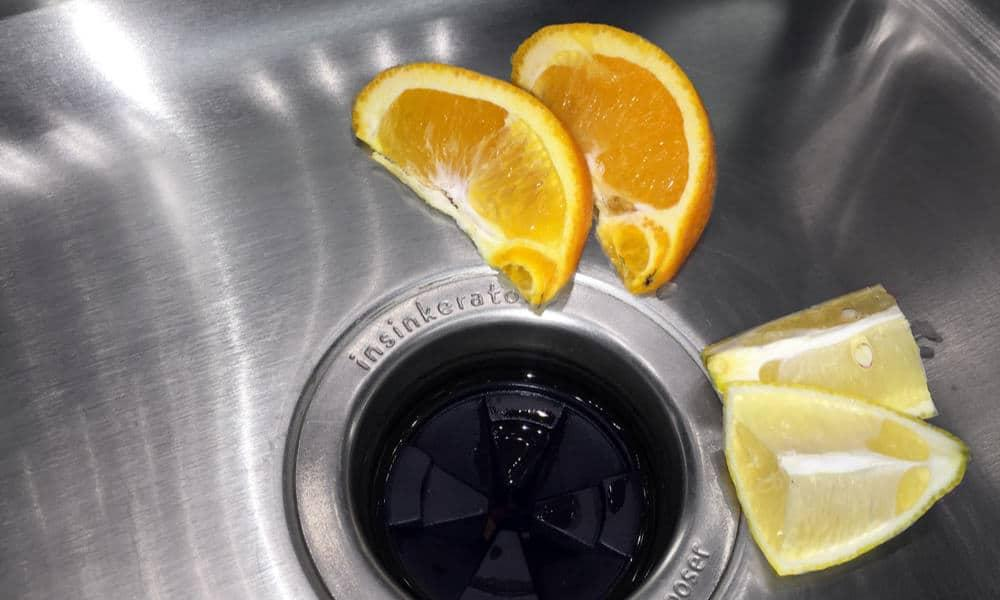organic: (352, 63, 592, 305), (513, 23, 715, 291), (722, 381, 966, 572), (703, 285, 936, 417)
